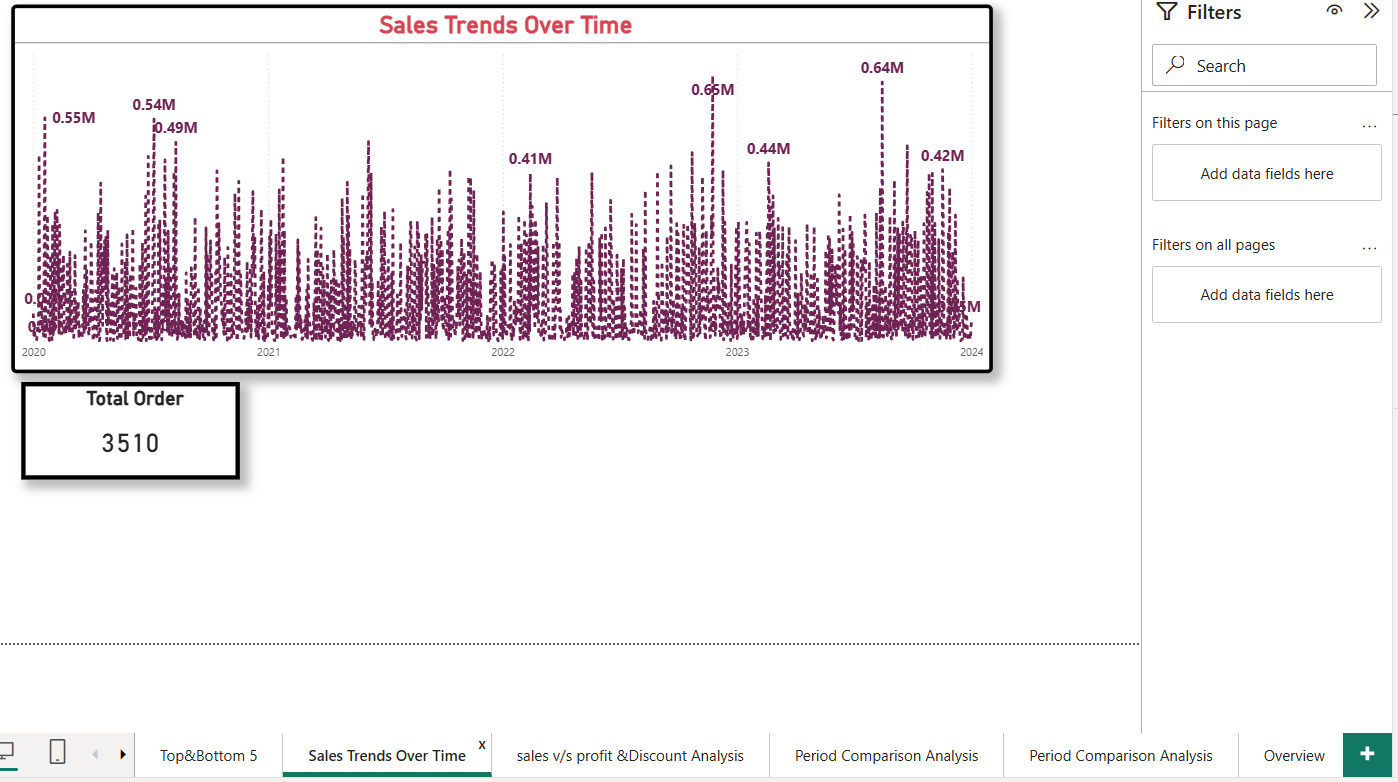

The page's visual inventory and layout, read from the dashboard file:
{"tool":"powerbi","page":{"name":"Sales Trends Over Time","canvas":[1280,720],"ordinal":1},"visuals":[{"type":"lineChart","title":"Sales Trends Over Time","fields":{"Category":["Fact Table.Date (dd/mm/yyyy).Variation.Date Hierarchy.Year"],"Y":["Sum(Fact Table.Net Sale )"]},"box":[40.2,18.7,1077.9,404.8],"z":0},{"type":"card","title":"Total Order","fields":{"Values":["Count(Fact Table.OrderID)"]},"box":[50.8,433.6,240.1,107],"z":1000}]}

Visuals, with their boxes on the page's 1280x720 design canvas (x1, y1, x2, y2). These are canvas units, not pixel positions in the 1398x782 screenshot, which may show the page scaled, cropped or inside an application window:
"Sales Trends Over Time" lineChart: crop(40, 19, 1118, 424)
"Total Order" card: crop(51, 434, 291, 541)
